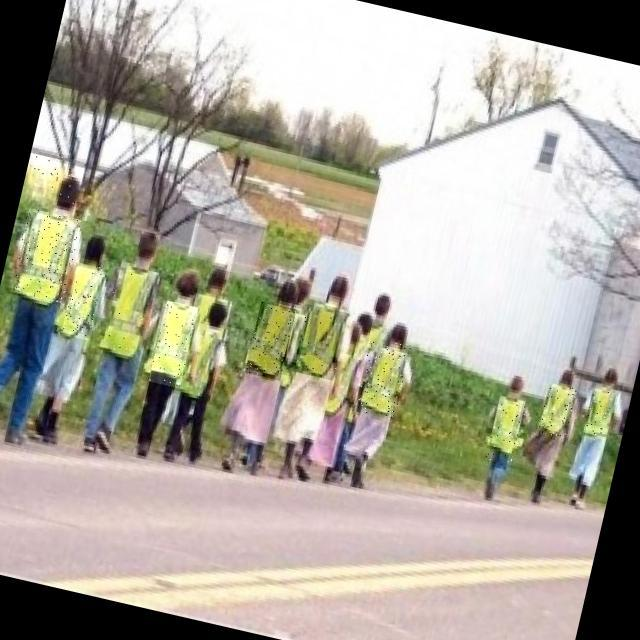Helmet: (25, 151, 86, 206)
Safety Vest: (10, 208, 82, 304), (99, 259, 158, 356), (354, 336, 411, 419), (148, 301, 198, 390), (292, 304, 348, 381), (244, 302, 296, 382), (60, 263, 104, 341), (485, 397, 527, 465), (537, 383, 577, 442), (583, 388, 616, 442)
